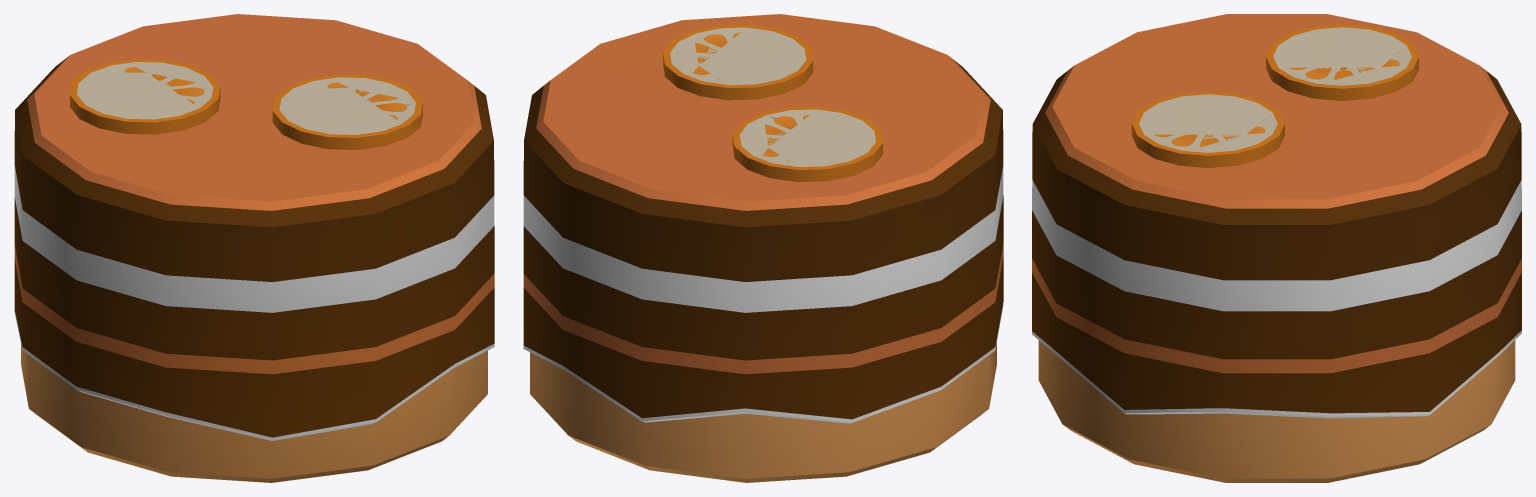
Rendered from Cake_4.fbx.
3 views of the same model, side by side, from view 1: azimuth 30°, elevation 25°; view 2: azimuth 150°, elevation 25°; view 3: azimuth 270°, elevation 25° (orthographic).
Parts seen in each view (by area): view 1: Cake_4; view 2: Cake_4; view 3: Cake_4.
Part boxes in pixels (box(x1,y1,x2,y2)): Cake_4: box(14, 14, 494, 482); Cake_4: box(523, 14, 1003, 482); Cake_4: box(1032, 14, 1521, 482).
Bounding box in the file's own units: 0.2645 × 0.1797 × 0.2713.
